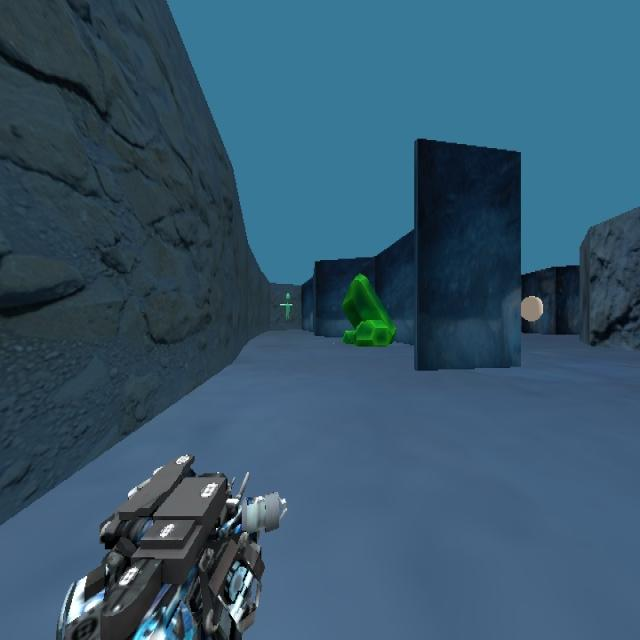Alien: (278, 291, 292, 321)
Circle: (520, 294, 543, 322)
Diamon: (341, 270, 396, 346)
